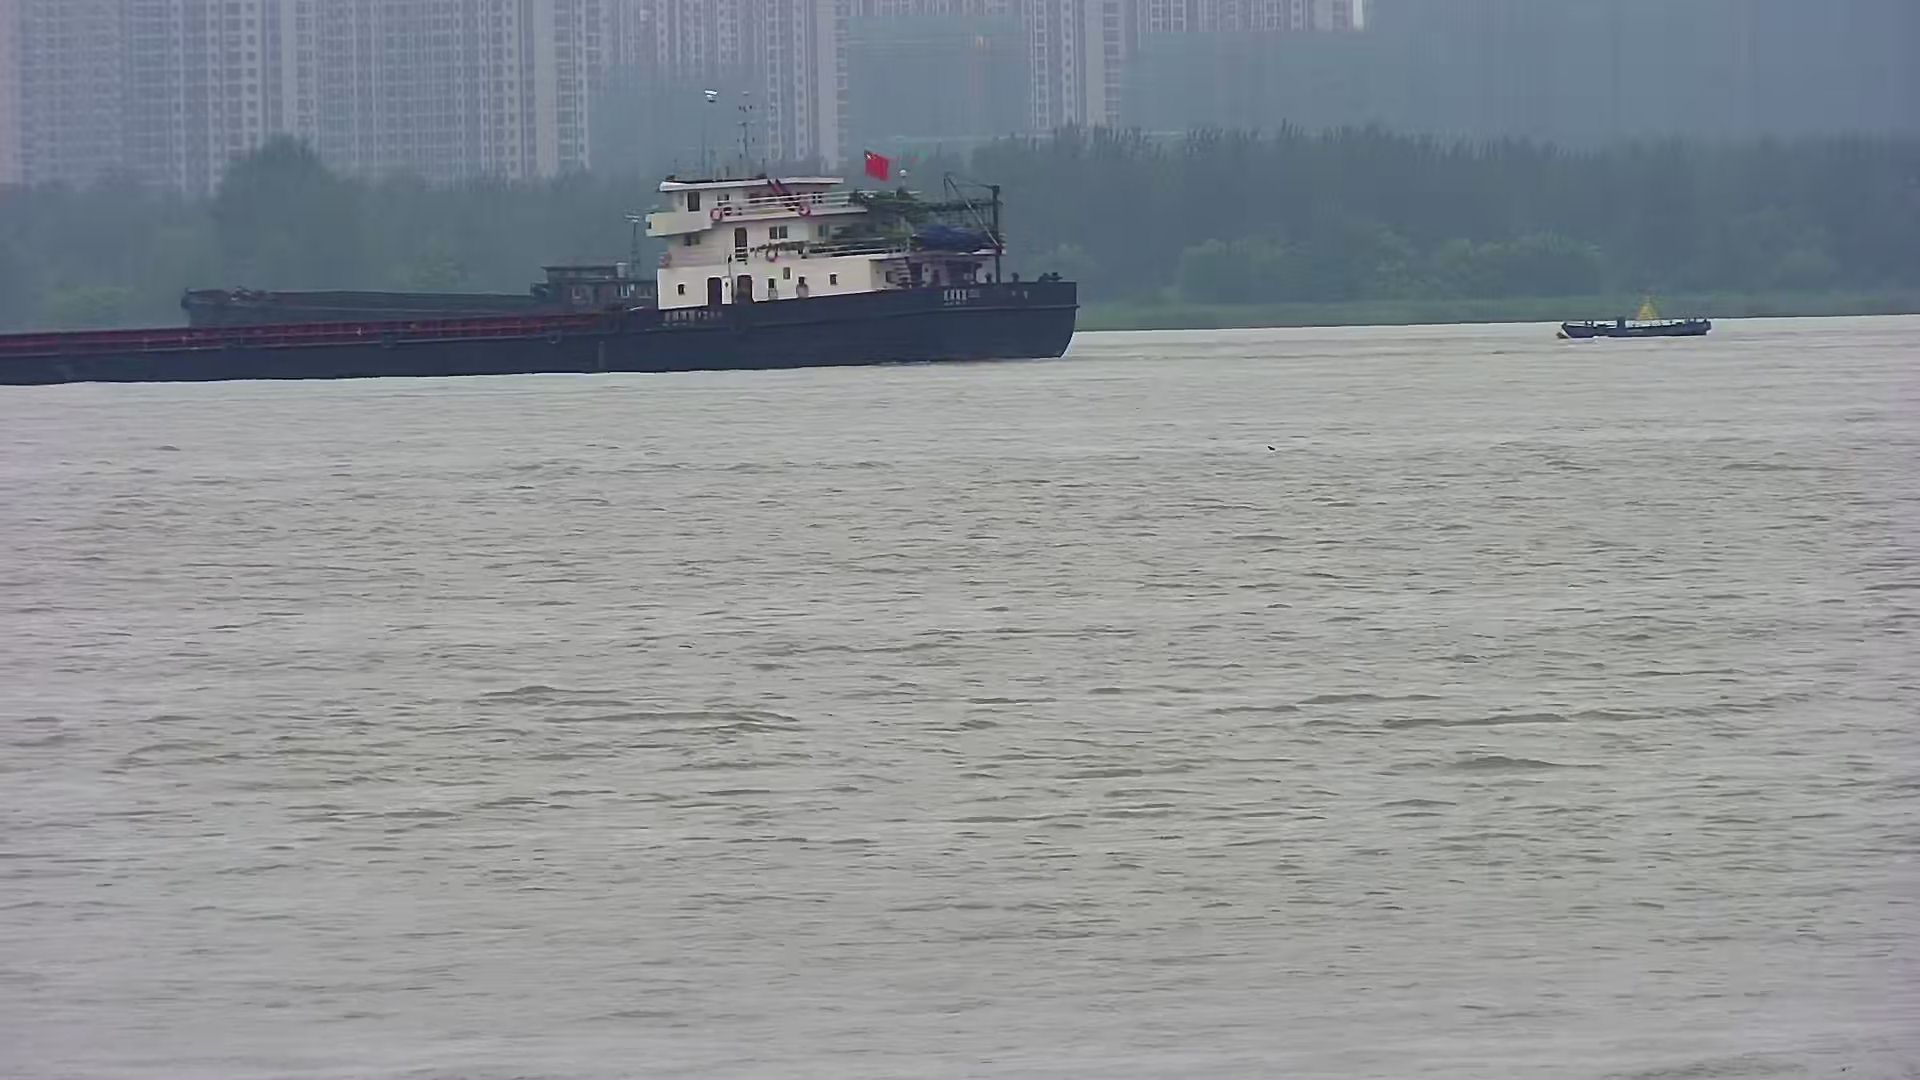boat: (1559, 291, 1713, 342)
ship: (1, 138, 1076, 382), (167, 196, 916, 371)
